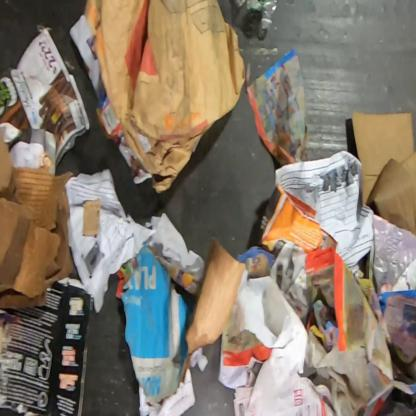cardboard: (73, 0, 247, 195), (120, 235, 247, 408), (0, 127, 76, 311), (0, 276, 96, 415), (351, 109, 415, 239), (236, 244, 278, 279), (82, 200, 102, 237)
metal: (233, 0, 279, 33)
soft_plastic: (118, 136, 171, 186), (94, 81, 122, 144)
